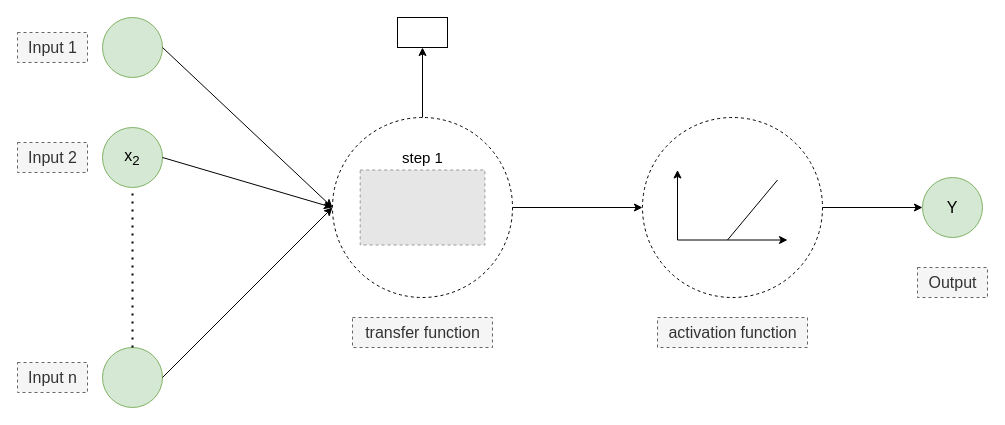
This 1005x425 diagram has some shape labels left out. Grey dashed boxes stand in for pictures. Each missing label, with the centre of its shape:
"bias" goes at pixel 422 32.
"step 2" goes at pixel 732 207.
"x 1" goes at pixel 132 47.
"x n" goes at pixel 132 377.
